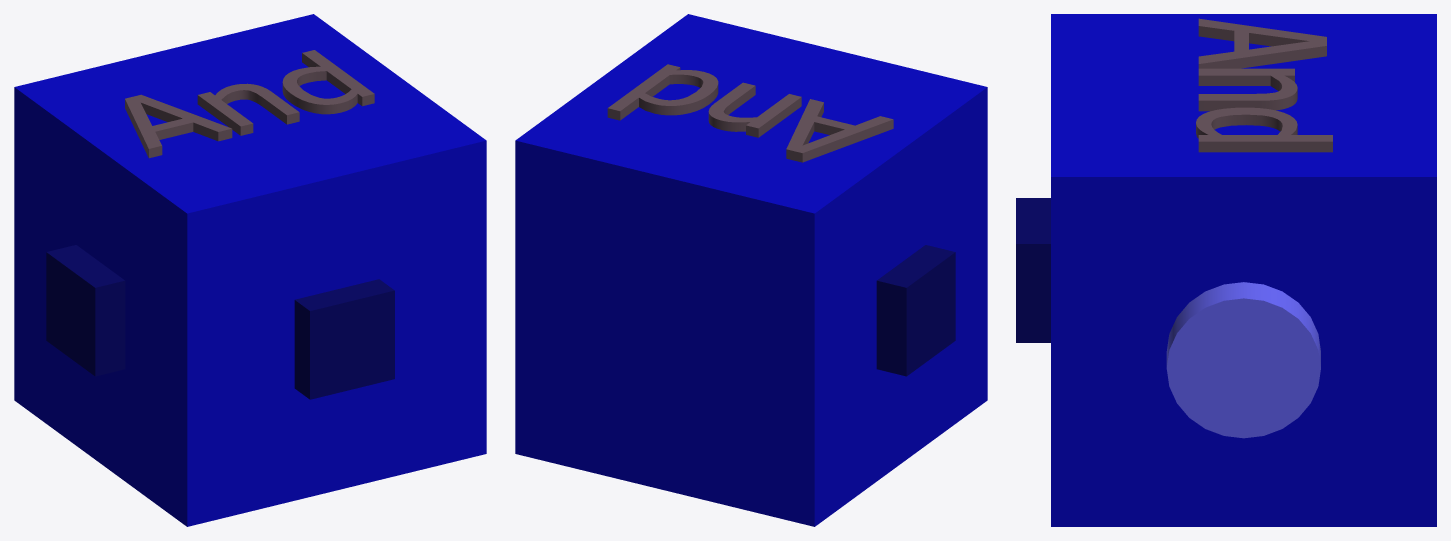
Rendered from And_Logic.dae.
3 renders of one model, left to right at view 1: azimuth 30°, elevation 25°; view 2: azimuth 150°, elevation 25°; view 3: azimuth 270°, elevation 25°, orthographic. The views are drawn at different scales.
Parts seen in each view (by area): view 1: SketchUp (×3), And (×3); view 2: SketchUp (×2), And (×4); view 3: SketchUp (×3), And (×4).
Part boxes in pixels (<box>): SketchUp (×3): <box>14,14,486,526</box>; And (×3): <box>125,50,374,158</box>; SketchUp (×2): <box>515,14,987,526</box>; And (×4): <box>607,64,893,162</box>; SketchUp (×3): <box>1016,14,1436,526</box>; And (×4): <box>1196,18,1332,152</box>.
Size of the model in its own units: 47.24 by 42.91 by 40.55.
